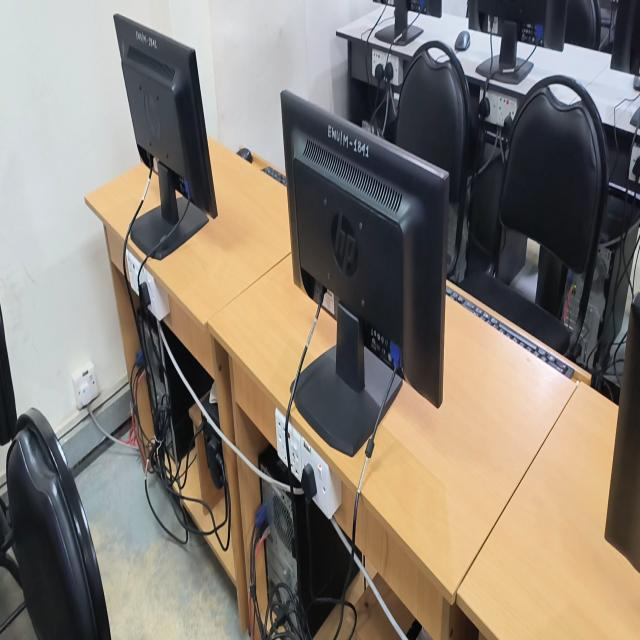Chair: (459, 75, 608, 356), (0, 311, 111, 639), (395, 40, 471, 264), (564, 0, 601, 49)
Cpu: (261, 479, 359, 638), (576, 194, 640, 370), (141, 310, 194, 459), (161, 322, 213, 399), (258, 444, 290, 484), (563, 271, 584, 329)
Keyboard: (446, 289, 574, 378)
Monitor: (281, 91, 449, 456), (114, 14, 218, 259), (467, 0, 567, 84), (375, 0, 441, 46)
Mouse: (454, 30, 470, 52)
